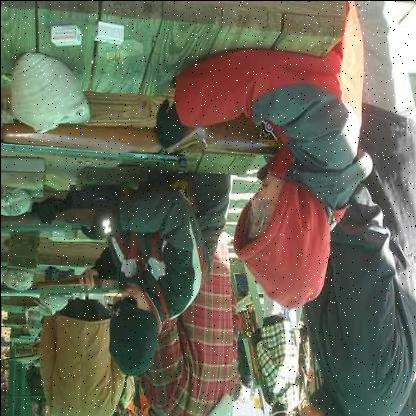rifle: (1, 98, 310, 172), (1, 176, 211, 242)
